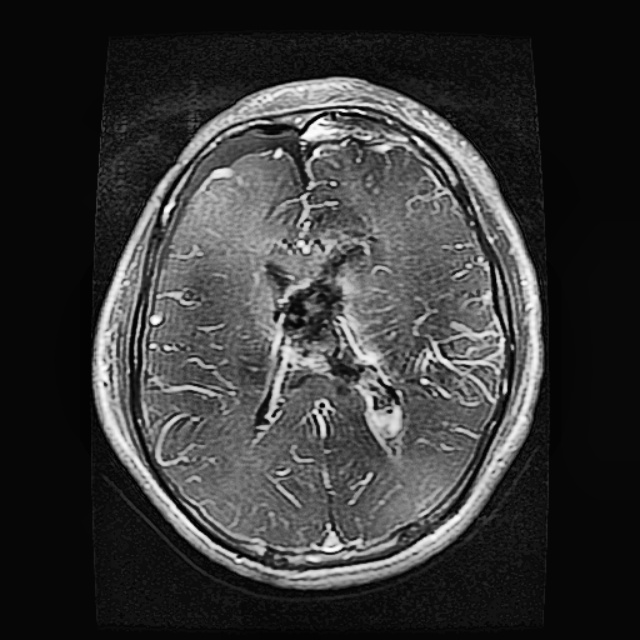Glioma: (245, 233, 384, 384)
